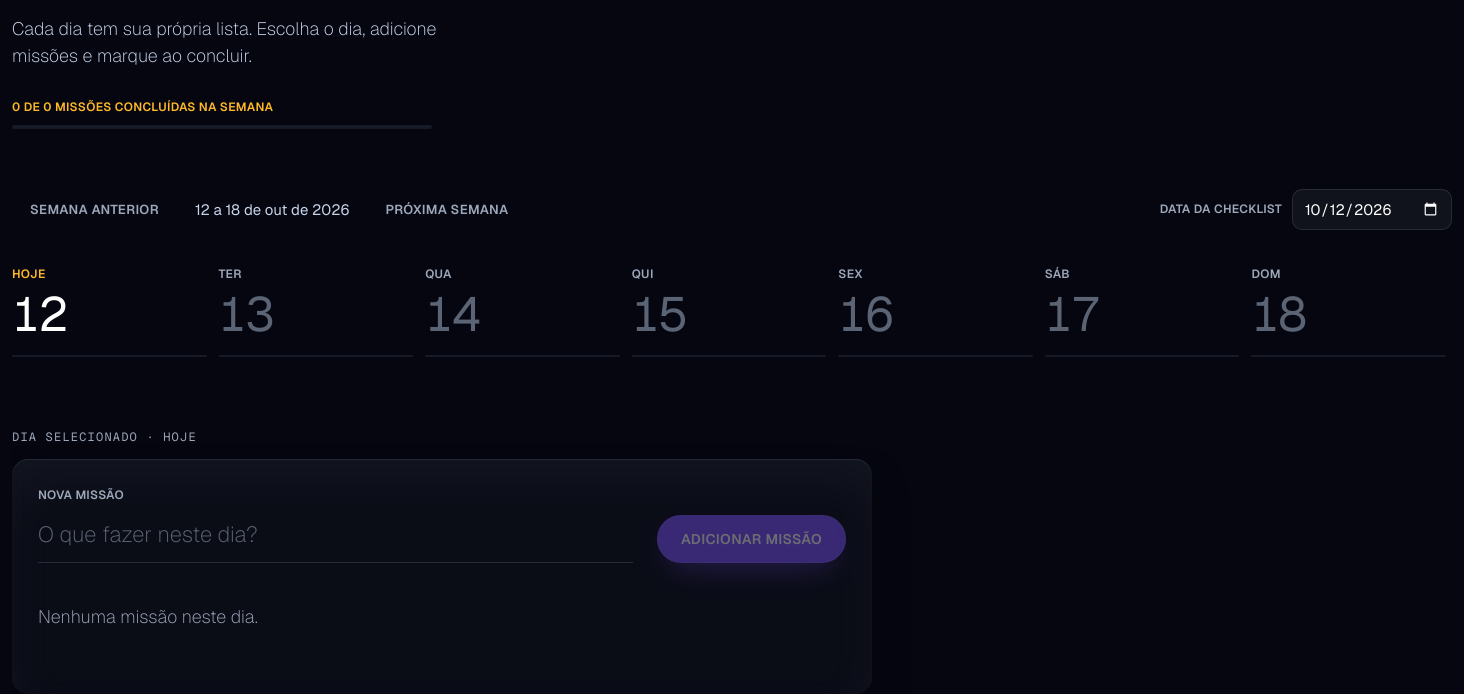
Test case: ChecklistPage › keeps the draft and reports a mutation error
(page scrolled)
Type "Minha missão" into the field labelled "Nova missão".
click(335, 536); type("Minha missão")  # box [38,510,633,563]
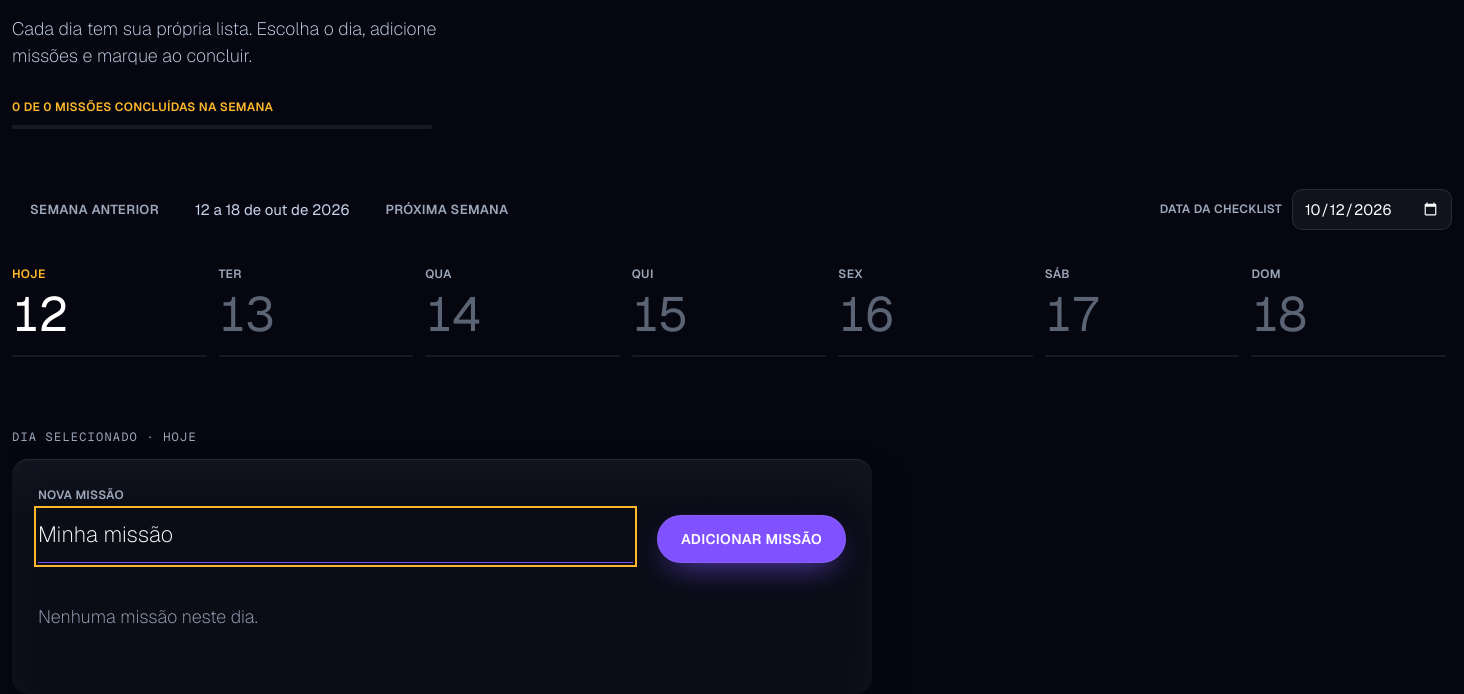
Click the button "Adicionar missão".
click(751, 539)  # box [657,515,846,563]
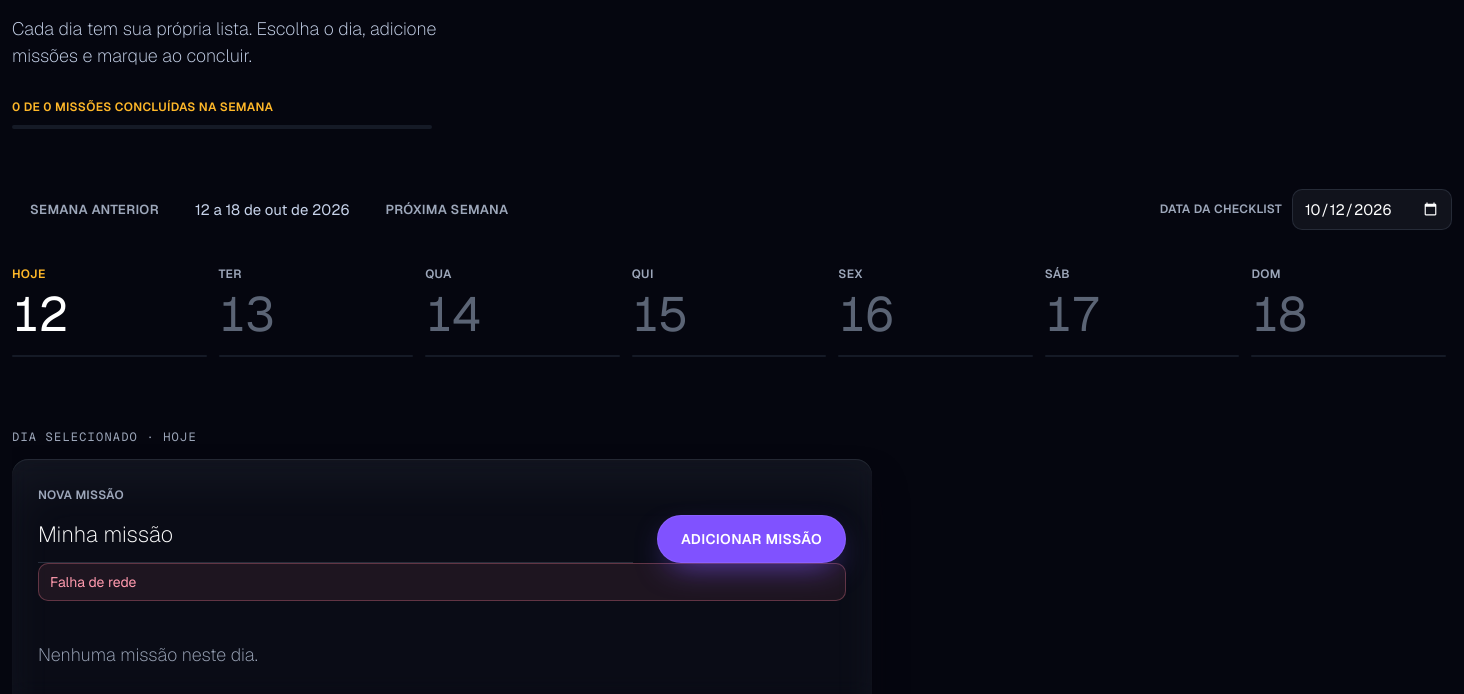
expect the message reads "Falha de rede": met, box [50,573,136,591]
